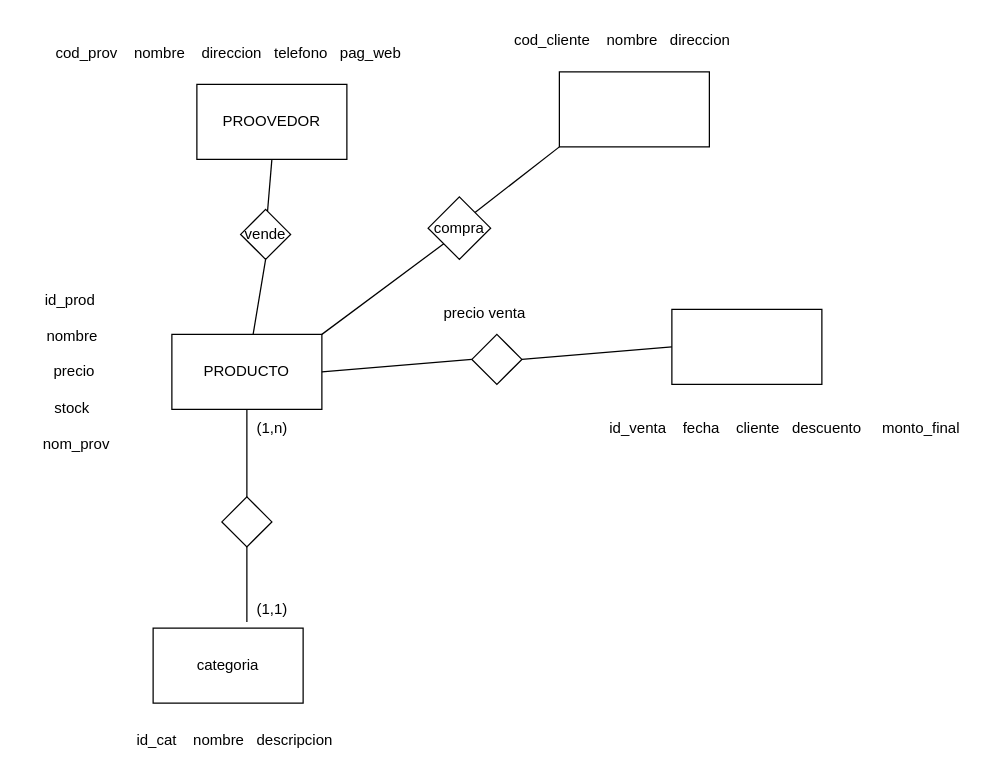
Some shapes in this 993 by 780 pixel diagram are drawn without their labels. Each missing label, with the centre of its shape:
"CLIENTE" goes at pixel 633 109.
"pertenece" goes at pixel 246 521.
"VENTAS" goes at pixel 746 346.
